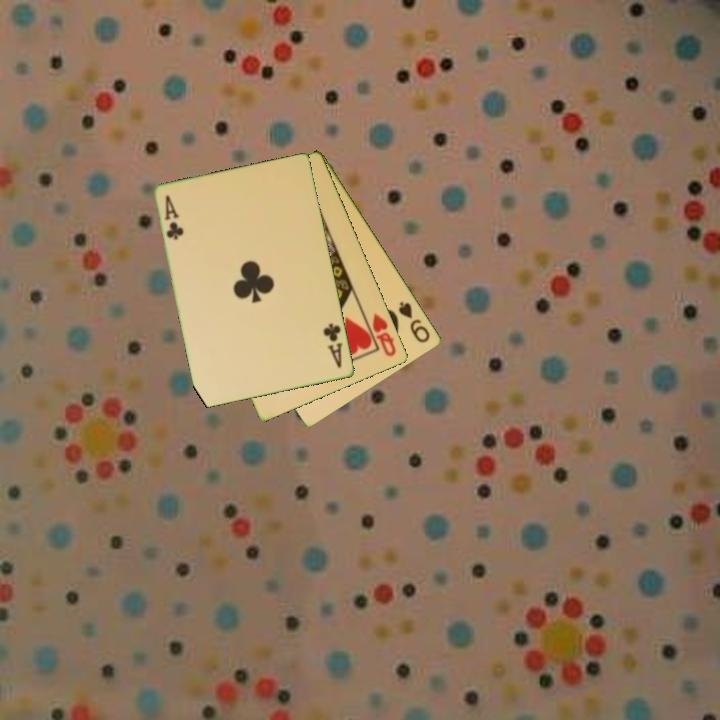9s: (395, 298, 433, 346)
Ac: (320, 320, 346, 371), (161, 192, 187, 243)
Qh: (369, 309, 399, 360)
